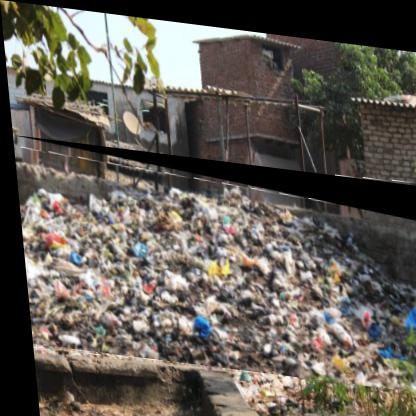Garbage: (11, 135, 416, 388)
